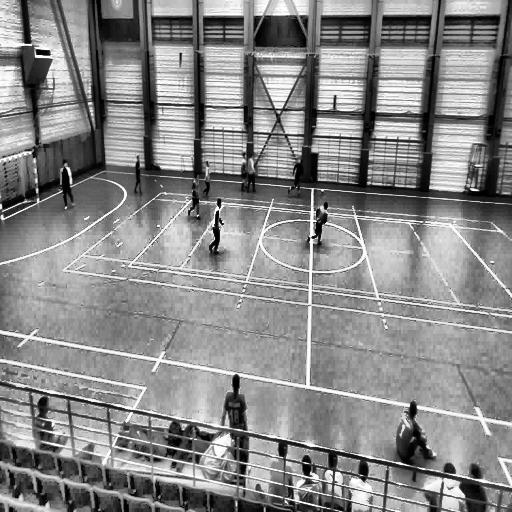ball: (320, 187, 326, 196)
player: (209, 196, 225, 256), (60, 158, 75, 209), (311, 202, 328, 246), (188, 173, 202, 219), (288, 156, 302, 197), (244, 152, 256, 193), (133, 154, 143, 196), (202, 160, 212, 197)
